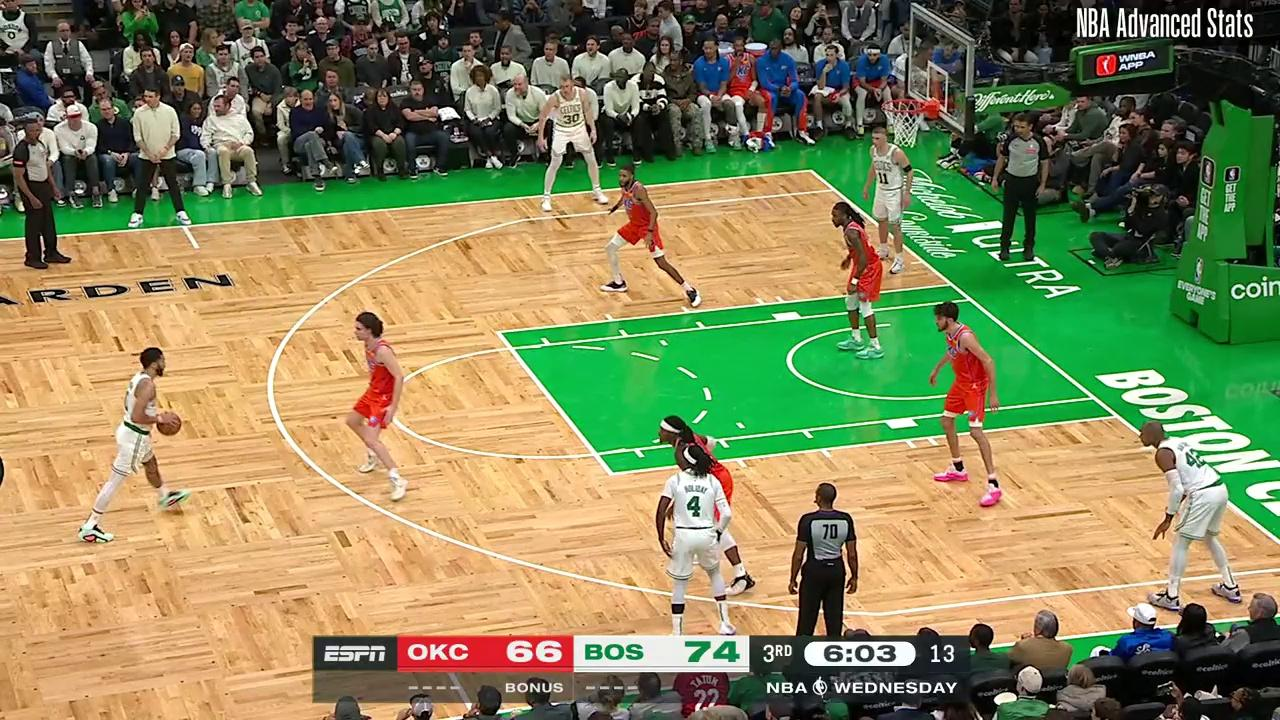3_sx: (825, 180, 842, 195)
b_sx: (801, 159, 822, 179)
free_adx: (603, 465, 621, 481)
free_asx: (492, 323, 507, 339)
free_bdx: (1100, 404, 1130, 427)
free_bsx: (935, 271, 963, 292)
mid_sx: (189, 243, 204, 253)
referee: (796, 480, 855, 642), (16, 122, 67, 267), (1002, 117, 1043, 262)
team: (1139, 416, 1248, 601), (93, 348, 186, 538), (659, 447, 738, 632), (537, 72, 610, 206), (865, 128, 910, 271)
team1: (654, 414, 755, 593), (933, 302, 1007, 506), (605, 161, 701, 308), (347, 308, 414, 507), (830, 204, 885, 353)
timer: (821, 643, 908, 669)
